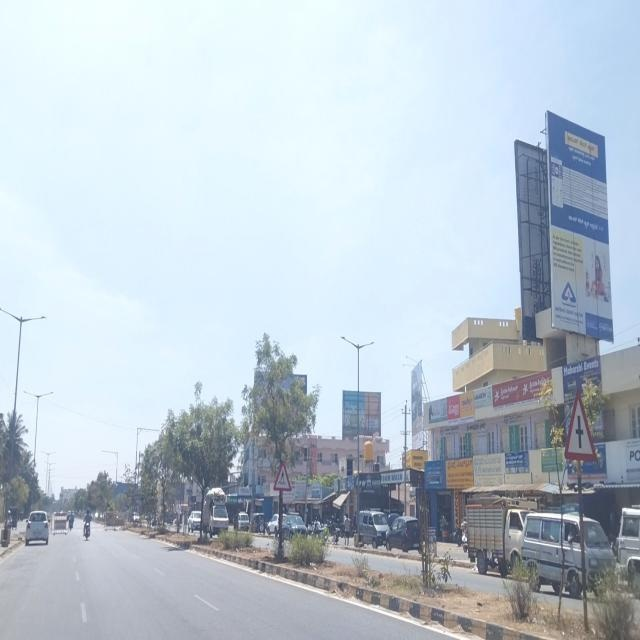bien_nguy_hiem: (563, 387, 598, 463), (272, 459, 292, 492)
